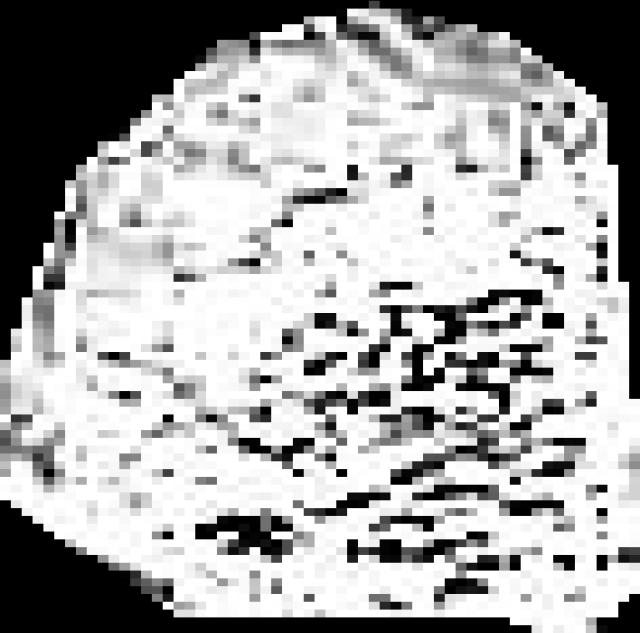tumor_moderate_chance: (0, 1, 640, 633)
